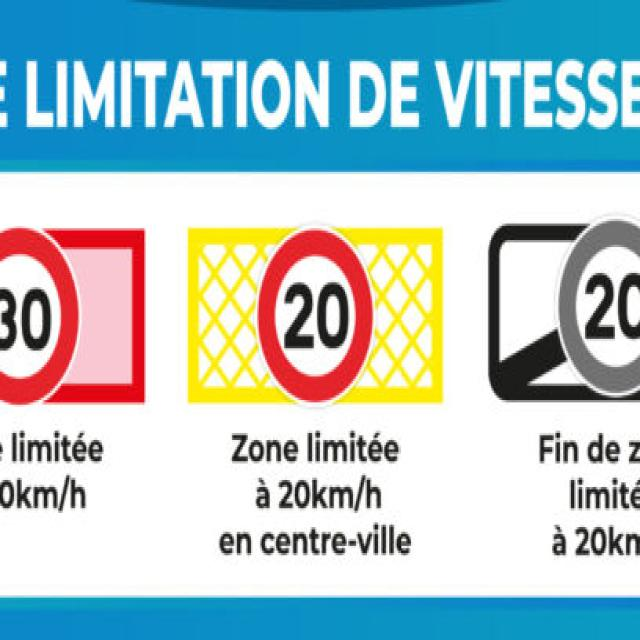speed: (259, 230, 373, 402), (2, 228, 80, 405)
